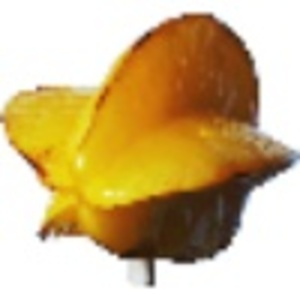carambola: (1, 11, 300, 284)
